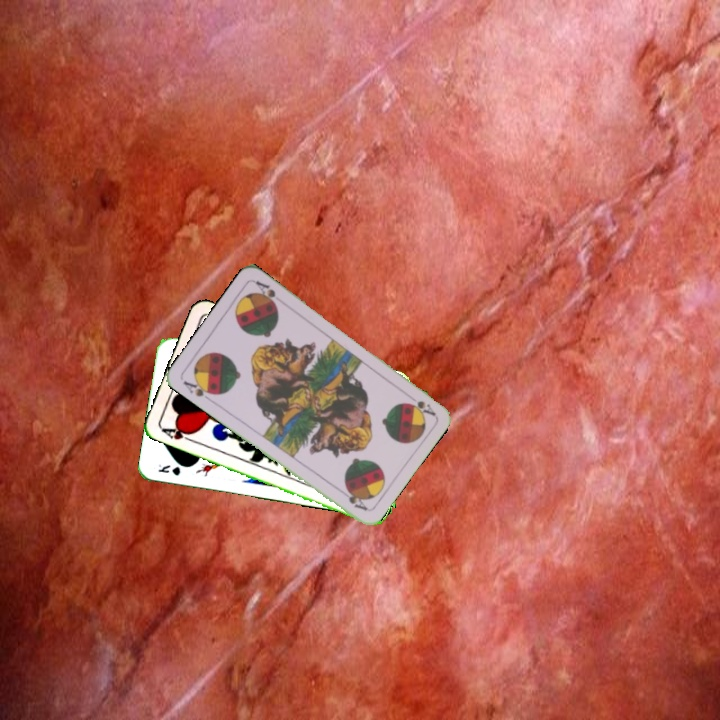GK: (154, 460, 183, 478)
HA: (157, 422, 197, 445)
SA: (179, 375, 218, 404), (403, 389, 438, 418)
